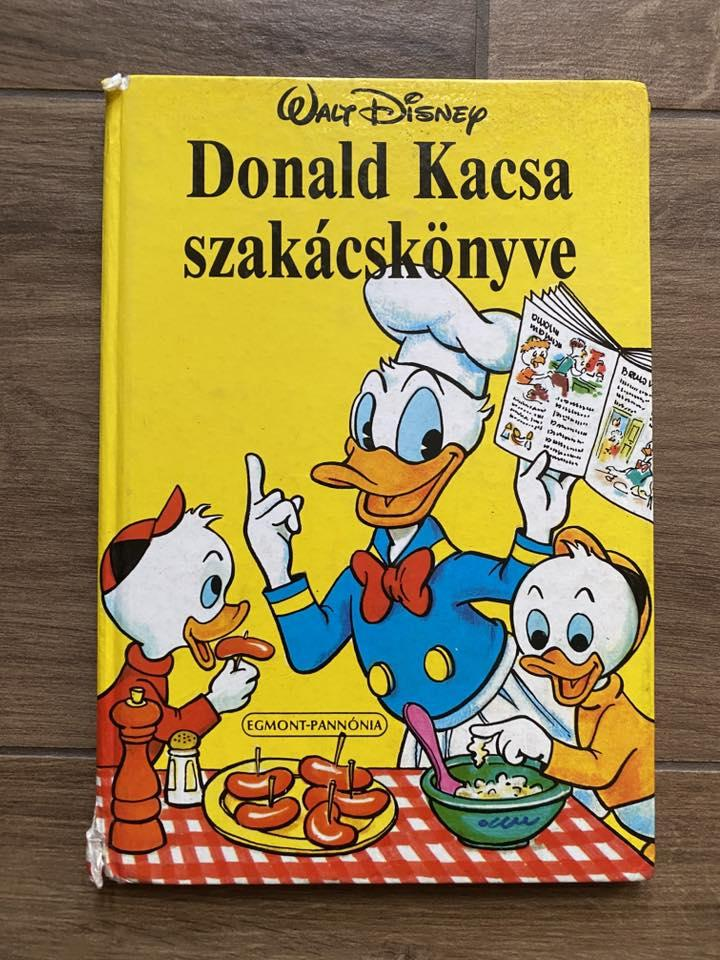comic: (88, 76, 660, 887)
